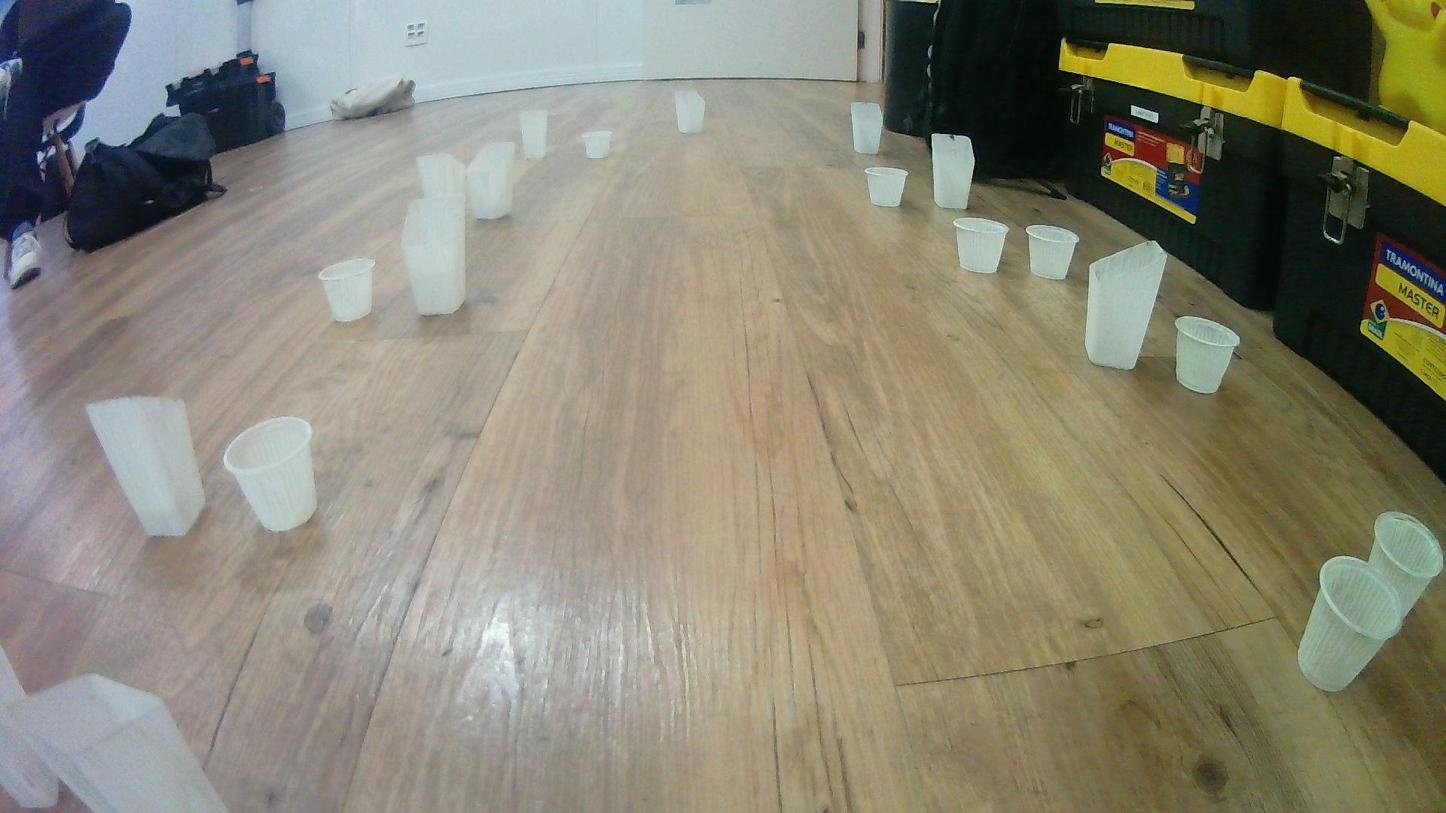erva_daninha: (26, 673, 235, 813), (87, 395, 207, 538), (1084, 239, 1167, 371), (0, 637, 62, 813), (399, 194, 467, 317), (465, 140, 517, 221), (929, 132, 976, 211), (416, 153, 466, 199), (850, 101, 883, 156), (517, 109, 549, 160), (673, 87, 706, 134)
planta: (1295, 556, 1405, 693), (221, 416, 320, 534), (1364, 510, 1445, 612), (1174, 315, 1240, 394), (318, 257, 377, 323), (952, 217, 1010, 276), (1024, 224, 1081, 281), (863, 167, 910, 209), (583, 129, 613, 160)
